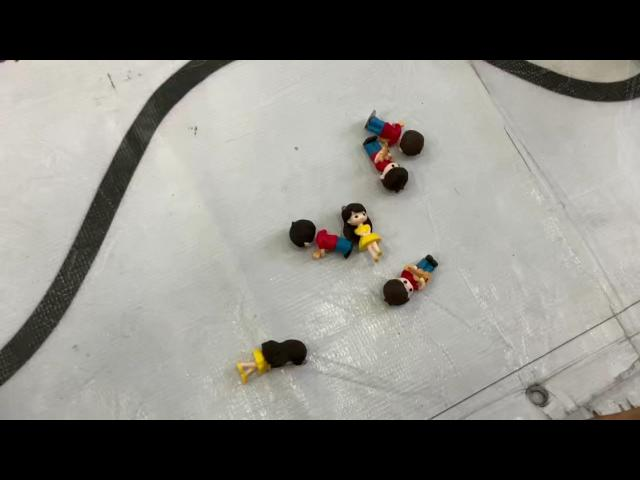man: (289, 217, 355, 265), (382, 255, 438, 308), (366, 106, 424, 155), (362, 134, 408, 194)
woman: (238, 338, 310, 384), (340, 203, 384, 263)
